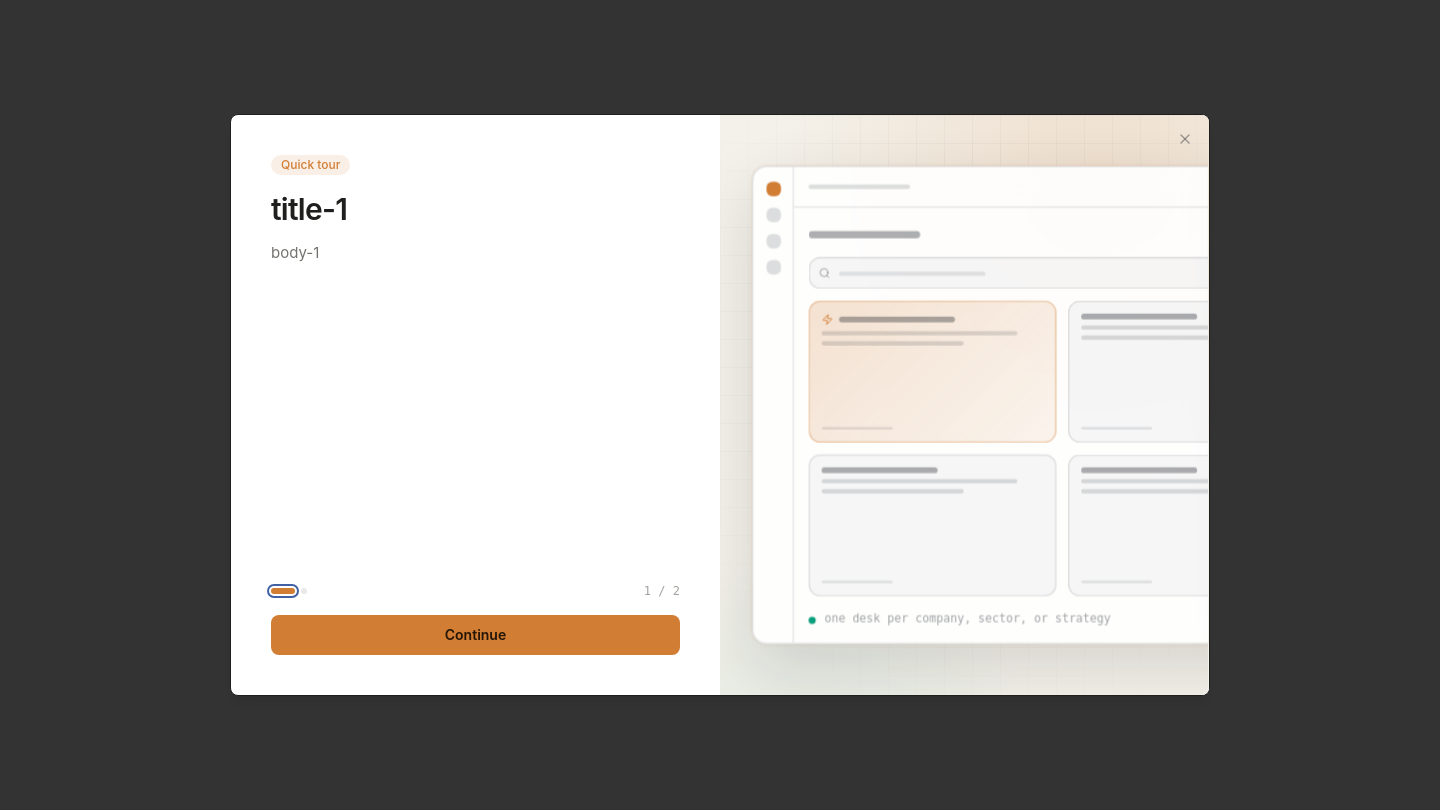
Test: PageIntroModal under prefers-reduced-motion › renders and navigates via the instant-crossfade path
The image size is (1440, 810).
Expected: the heading "title-1" is shown, [271,191,347,227]
Click the button "Continue" at (476, 635), box [271,615,680,655]
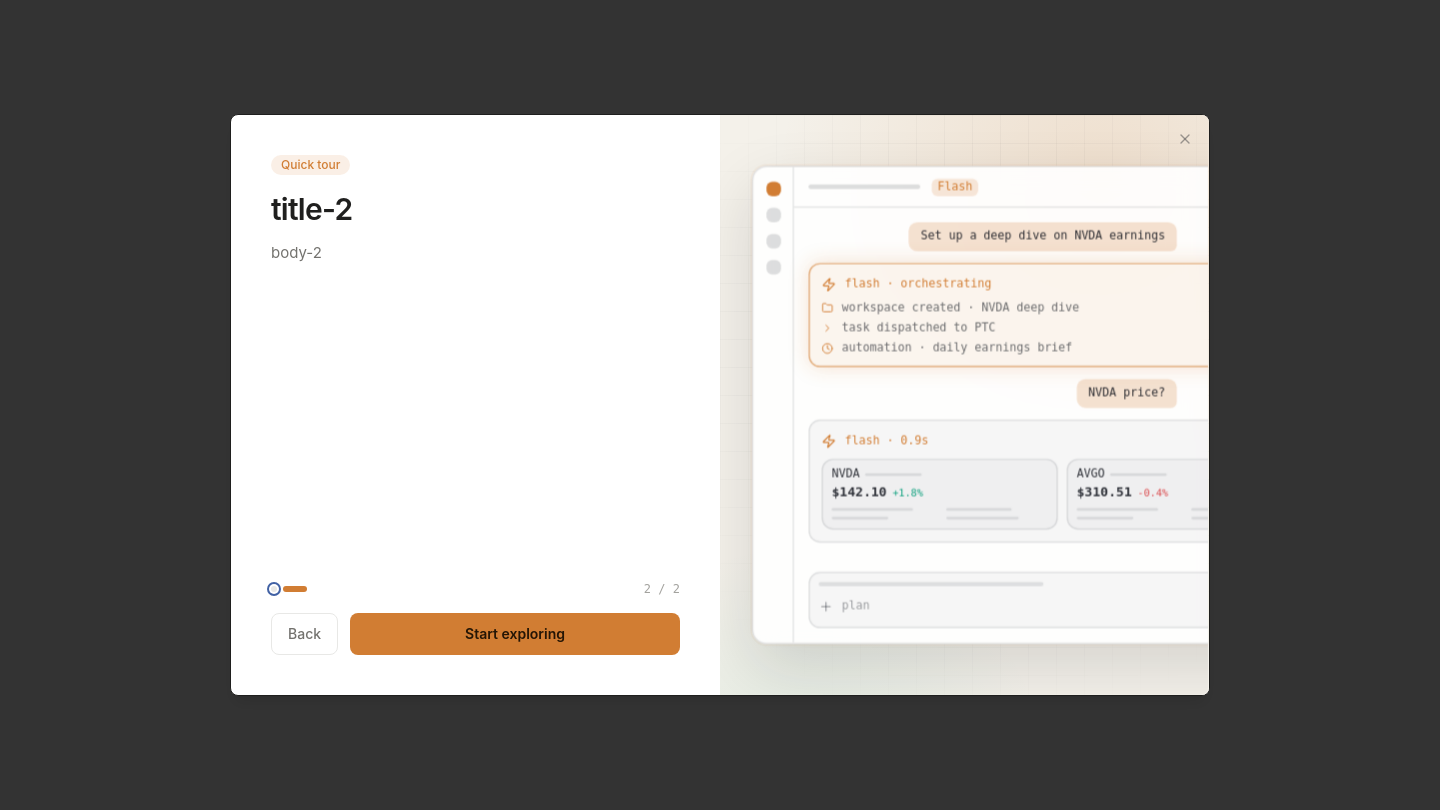
Expected: the heading "title-2" is shown, [271,191,352,227]
Click the button "Back" at (305, 634), box [271,613,338,655]
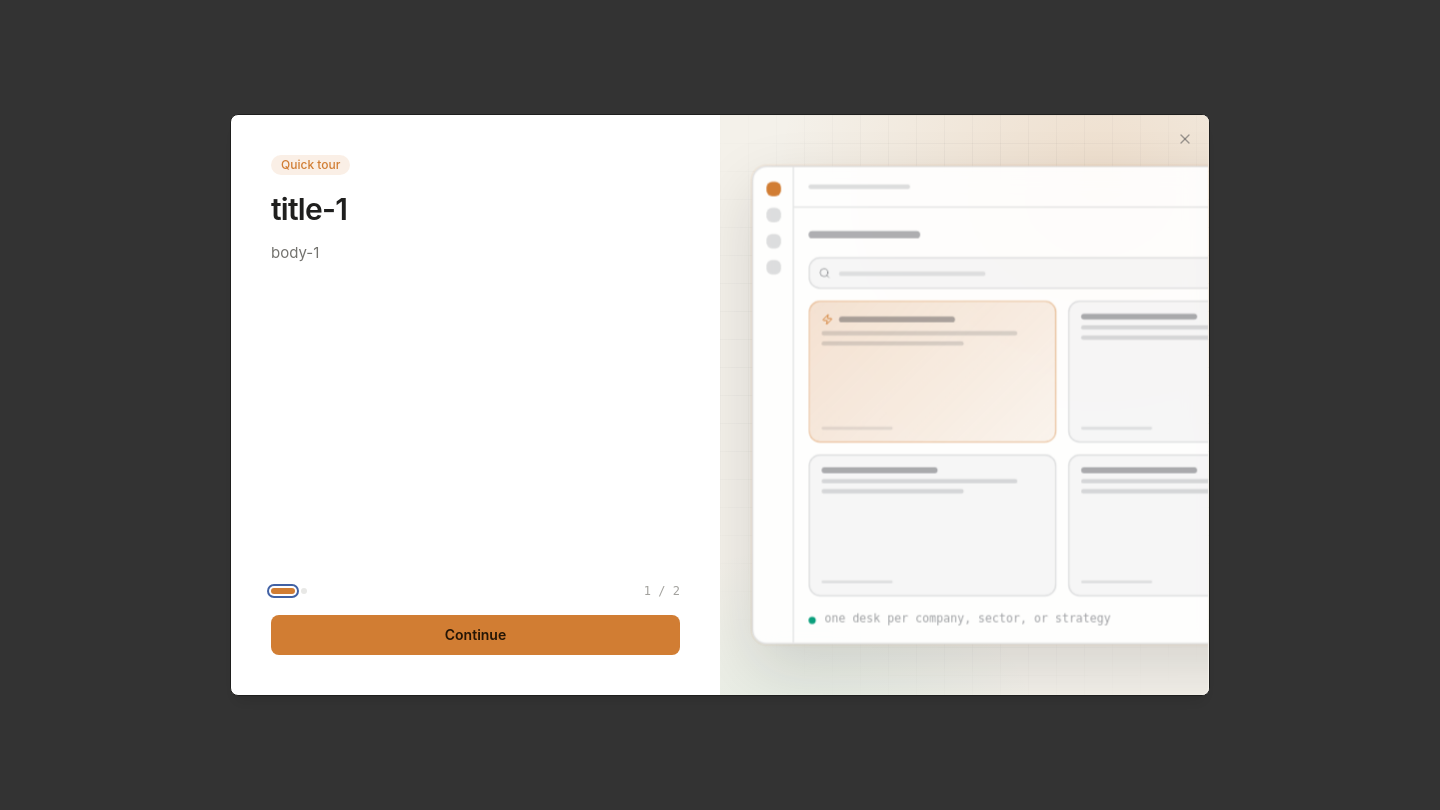
Expected: the heading "title-1" is shown, [271,191,347,227]
